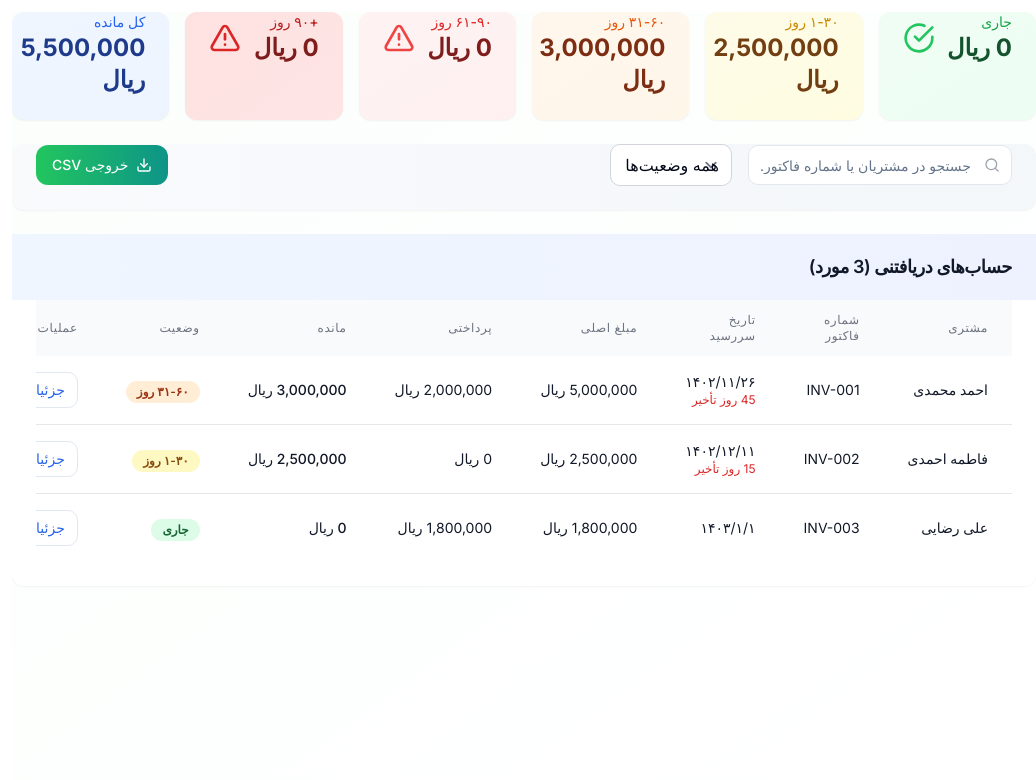
AccountsReceivable Component › handles empty search results
The width and height of the screenshot is (1036, 780).
expect the text "احمد محمدی" is shown: met, box [908,380,988,400]
Type "نتیجه‌ای یافت نشد" into the field with placeholder "جستجو در مشتریان یا شماره فاکتور..." at x=880, y=165, box [748,145,1012,185]
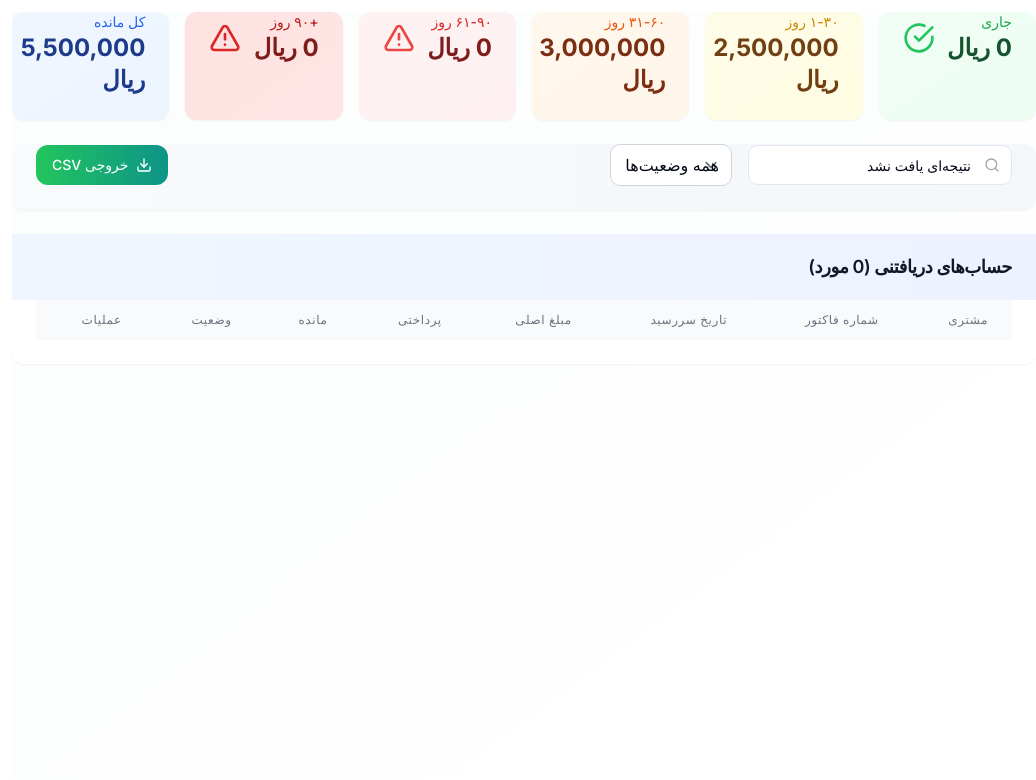
expect the text "احمد محمدی" is gone: met
expect the text "فاطمه احمدی" is gone: met
